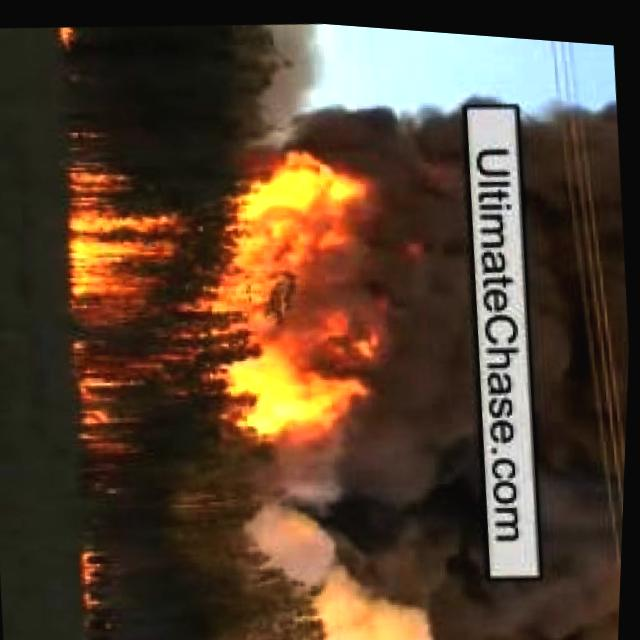helmet: (62, 129, 410, 461), (80, 536, 124, 616), (81, 544, 120, 616), (58, 23, 88, 47)
no_helmet: (344, 90, 518, 640), (500, 83, 638, 640)
